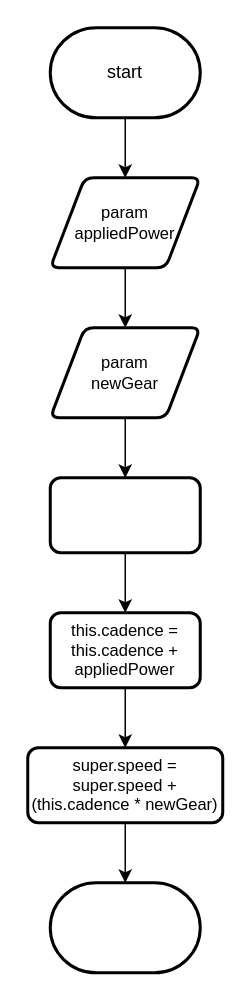
Image size: 249x999. Some labels were removed from this diagram. Each missing label, with the centre of its shape:
"stop" goes at pixel 124 927.
"this.gear = newGear" goes at pixel 124 515.
